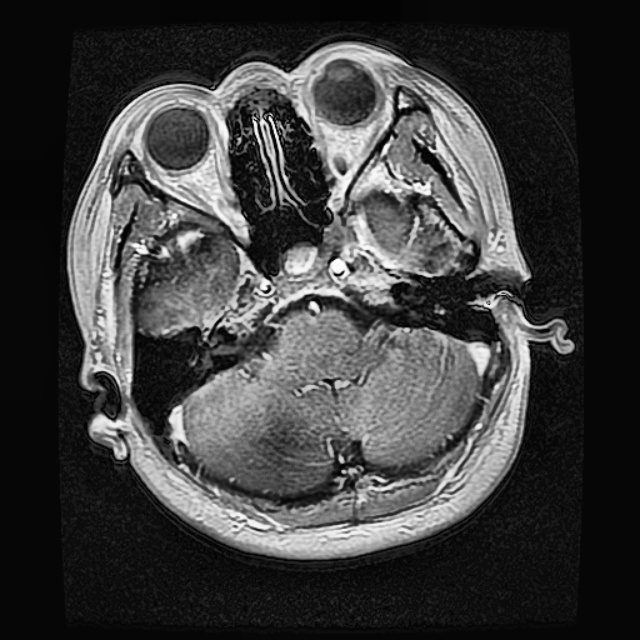Pituitary: (270, 242, 342, 297)
